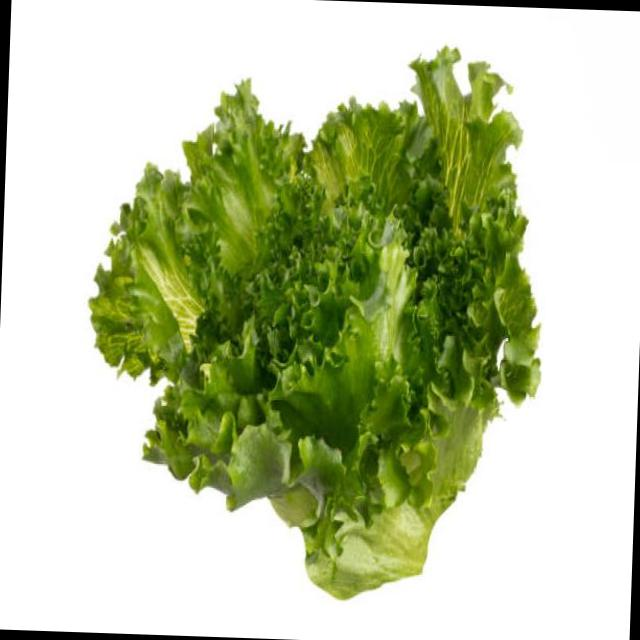Lettuce-Ready-to-Harvest: (91, 48, 539, 597)
